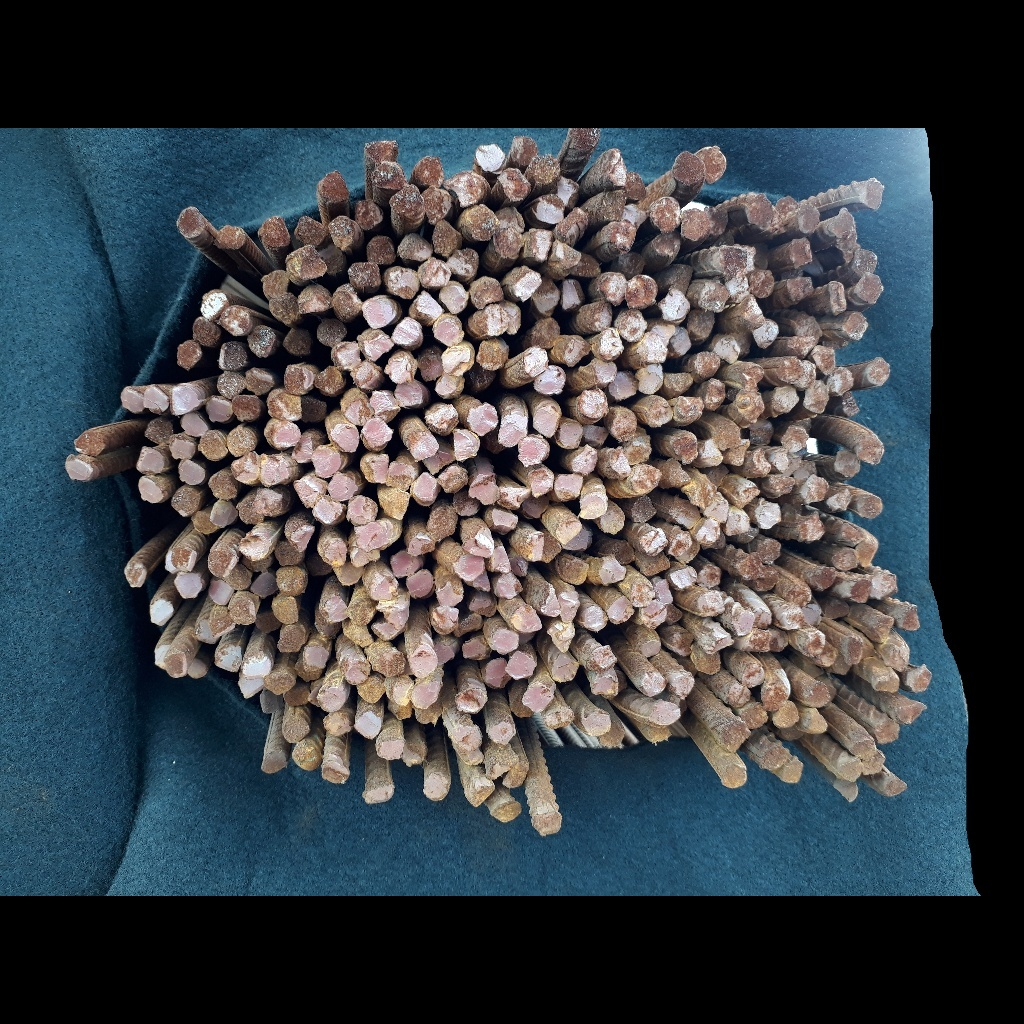dipstick: (443, 172, 489, 207), (283, 246, 328, 280), (541, 508, 582, 545), (729, 389, 766, 427), (553, 212, 590, 250), (460, 207, 502, 240), (406, 289, 445, 324), (722, 473, 761, 507), (613, 307, 648, 342), (671, 151, 705, 187), (465, 402, 501, 436), (328, 216, 361, 253), (625, 273, 657, 311), (650, 198, 684, 233), (496, 167, 530, 202), (328, 422, 363, 456), (363, 294, 397, 329), (657, 288, 690, 324), (388, 185, 424, 218), (260, 214, 293, 250), (467, 276, 504, 308), (429, 219, 461, 256), (310, 445, 344, 479), (532, 192, 565, 227), (485, 745, 520, 778), (879, 634, 911, 670), (361, 296, 398, 327), (357, 329, 395, 359), (694, 149, 727, 183), (595, 272, 628, 306), (619, 429, 651, 464), (474, 305, 509, 337), (421, 185, 453, 220), (316, 170, 351, 202), (260, 453, 292, 488), (330, 553, 365, 585), (438, 279, 469, 315), (385, 267, 421, 298), (296, 285, 333, 315), (716, 720, 749, 753), (597, 447, 630, 480), (293, 214, 326, 247), (696, 280, 730, 312), (668, 529, 700, 563), (658, 458, 690, 492), (659, 262, 693, 294), (384, 350, 418, 382), (390, 316, 424, 348), (333, 285, 365, 319), (270, 388, 302, 422), (371, 160, 407, 190), (170, 569, 206, 599), (395, 233, 433, 261), (629, 462, 662, 494), (522, 229, 554, 262), (491, 228, 524, 260), (413, 157, 445, 190), (245, 325, 277, 358), (668, 430, 699, 464), (608, 406, 638, 441), (510, 267, 540, 302), (218, 306, 253, 336), (350, 361, 386, 390), (602, 149, 629, 187), (852, 272, 884, 304), (576, 391, 608, 423), (360, 453, 392, 485), (137, 382, 169, 414), (426, 508, 459, 539), (378, 488, 409, 521), (331, 341, 364, 372), (231, 451, 262, 484), (225, 426, 258, 457), (710, 419, 744, 449), (683, 475, 717, 505), (528, 154, 562, 184), (431, 314, 465, 344), (446, 248, 480, 278), (266, 296, 300, 326), (686, 308, 715, 343), (546, 241, 581, 270), (416, 259, 452, 287), (494, 482, 531, 509), (733, 360, 764, 392), (641, 396, 672, 428), (552, 418, 584, 449), (559, 336, 591, 367), (270, 419, 302, 450), (360, 418, 393, 448), (315, 535, 348, 565), (169, 384, 202, 414), (680, 209, 709, 243), (389, 551, 424, 579), (424, 403, 459, 431), (346, 261, 381, 289), (352, 198, 383, 229), (346, 495, 377, 526), (227, 593, 258, 624), (760, 681, 790, 713), (564, 447, 596, 477), (531, 407, 561, 439), (529, 318, 561, 348), (531, 282, 561, 314), (261, 269, 291, 301), (473, 143, 506, 172), (517, 438, 550, 467), (547, 621, 576, 654), (214, 224, 247, 253), (215, 343, 248, 372), (828, 206, 856, 240), (585, 646, 619, 674), (504, 651, 538, 679), (700, 378, 727, 413), (530, 368, 565, 395), (671, 395, 702, 425), (607, 370, 638, 400), (176, 207, 206, 238), (410, 474, 439, 506), (274, 624, 306, 653), (803, 381, 831, 414), (580, 302, 613, 330), (496, 419, 529, 447), (467, 477, 501, 504), (807, 345, 837, 375), (667, 563, 697, 593), (639, 332, 669, 362), (282, 326, 312, 356), (236, 494, 266, 524), (773, 355, 804, 384), (745, 194, 774, 225), (607, 219, 636, 250), (384, 676, 415, 705), (408, 431, 439, 460), (285, 364, 314, 395), (423, 446, 455, 474), (441, 344, 473, 372), (477, 340, 505, 372), (326, 471, 358, 499), (316, 318, 348, 346), (852, 532, 879, 565), (453, 430, 480, 463), (293, 475, 320, 508), (229, 395, 262, 422), (485, 508, 519, 534), (454, 685, 488, 711), (312, 497, 346, 523), (825, 367, 854, 397), (799, 474, 828, 504), (725, 245, 755, 274), (692, 349, 722, 378), (634, 366, 664, 395), (365, 236, 395, 265), (316, 366, 345, 396), (291, 741, 321, 770), (245, 367, 275, 396), (205, 548, 235, 577), (167, 546, 197, 575), (208, 580, 238, 609), (834, 448, 862, 479), (866, 613, 894, 644), (797, 707, 828, 735), (198, 431, 229, 459), (800, 511, 827, 543), (463, 531, 495, 558), (353, 711, 385, 738), (314, 607, 340, 640), (701, 494, 730, 523), (870, 569, 898, 599), (636, 552, 671, 576), (439, 465, 469, 493), (320, 594, 348, 624), (254, 487, 284, 515), (895, 601, 922, 632), (571, 253, 602, 280), (454, 553, 485, 580), (896, 699, 928, 725), (620, 170, 646, 202), (494, 207, 526, 233), (762, 474, 795, 499), (537, 585, 562, 618), (510, 607, 543, 632), (355, 678, 388, 703), (364, 138, 398, 162), (856, 437, 885, 465), (753, 501, 781, 530), (712, 336, 741, 364), (694, 647, 722, 676), (671, 501, 700, 529), (652, 233, 680, 262), (598, 556, 627, 584), (607, 596, 635, 625), (590, 670, 619, 698), (408, 649, 437, 677), (281, 715, 310, 743), (723, 507, 750, 537), (692, 517, 722, 544), (599, 505, 626, 535), (527, 468, 554, 498), (522, 348, 549, 378), (341, 657, 371, 684), (192, 315, 219, 345), (207, 471, 237, 498), (795, 204, 821, 235), (865, 356, 891, 387), (870, 669, 901, 695), (741, 296, 767, 327), (490, 628, 521, 654), (465, 781, 496, 807), (408, 684, 439, 710), (385, 462, 416, 488), (272, 595, 298, 626), (602, 189, 627, 221), (343, 400, 375, 425), (130, 478, 162, 503), (262, 671, 295, 695), (752, 320, 780, 348), (771, 701, 799, 729), (639, 527, 667, 555), (517, 533, 545, 561), (407, 570, 435, 598), (209, 498, 237, 526), (190, 507, 218, 535), (836, 521, 865, 548), (905, 664, 932, 693), (836, 754, 863, 783), (781, 425, 810, 452), (742, 449, 771, 476), (800, 628, 827, 657), (666, 629, 695, 656), (276, 568, 305, 595), (852, 248, 878, 278), (801, 681, 831, 707), (588, 359, 618, 385), (511, 137, 537, 167), (523, 684, 553, 710), (370, 391, 400, 417), (172, 488, 198, 518), (249, 572, 279, 598), (788, 237, 813, 268), (451, 725, 482, 750), (175, 341, 206, 366), (555, 176, 579, 208), (749, 270, 776, 298), (776, 605, 804, 632), (740, 702, 768, 729), (628, 580, 655, 608), (554, 473, 581, 501), (485, 659, 512, 687), (436, 581, 464, 608), (432, 609, 459, 637), (423, 773, 450, 801), (842, 310, 868, 339), (725, 274, 751, 303), (703, 627, 732, 653), (598, 329, 624, 358), (503, 760, 529, 789), (205, 396, 234, 422), (793, 315, 823, 340), (726, 437, 751, 467), (669, 671, 694, 701), (356, 524, 386, 549), (239, 534, 269, 559), (863, 178, 885, 212), (705, 205, 729, 236), (560, 280, 584, 311), (493, 574, 524, 598), (350, 541, 381, 565), (147, 420, 178, 444), (772, 388, 799, 415), (597, 721, 624, 748), (301, 644, 329, 670), (275, 541, 303, 567), (858, 492, 883, 521), (748, 419, 773, 448), (506, 550, 531, 579), (368, 575, 397, 600), (418, 350, 443, 379), (167, 434, 196, 459), (164, 647, 189, 676), (664, 370, 694, 394), (381, 598, 411, 622), (501, 299, 521, 335), (292, 659, 322, 683), (840, 634, 863, 665), (557, 592, 580, 623), (695, 564, 722, 590), (639, 602, 665, 629), (178, 460, 205, 486), (617, 251, 645, 276), (610, 539, 635, 567), (431, 638, 456, 666), (396, 379, 421, 407), (668, 327, 692, 356), (65, 456, 94, 480), (321, 760, 351, 783), (317, 687, 347, 710), (179, 414, 209, 437), (560, 528, 591, 550), (486, 722, 517, 744), (860, 750, 886, 776), (630, 497, 656, 523), (744, 629, 771, 654), (486, 547, 511, 574), (534, 812, 561, 837), (786, 277, 814, 301), (720, 764, 748, 788), (400, 742, 428, 766), (379, 652, 407, 676), (323, 711, 351, 735), (347, 599, 375, 623), (452, 493, 481, 516), (344, 623, 373, 646), (366, 778, 396, 800), (781, 754, 802, 785), (811, 565, 836, 591), (756, 539, 782, 564), (814, 643, 840, 668), (758, 745, 784, 770), (699, 592, 724, 618), (580, 494, 606, 519), (224, 564, 249, 590), (210, 606, 234, 633), (370, 620, 404, 639), (724, 685, 752, 708), (652, 702, 680, 725), (545, 707, 574, 729), (829, 280, 847, 315), (460, 639, 490, 660), (827, 487, 852, 512), (874, 719, 899, 744), (583, 606, 608, 631), (470, 456, 495, 481), (302, 397, 327, 422), (836, 238, 862, 262), (832, 547, 858, 571), (735, 554, 759, 580), (584, 712, 610, 736), (434, 375, 461, 398), (848, 738, 876, 760), (376, 737, 404, 759), (76, 431, 104, 453), (491, 803, 523, 822), (583, 422, 608, 446), (406, 534, 436, 554), (138, 447, 162, 472), (194, 617, 218, 642), (849, 577, 872, 603), (731, 611, 754, 637), (795, 361, 817, 388), (284, 684, 311, 706), (152, 599, 174, 626), (768, 446, 789, 474), (821, 598, 850, 618), (123, 560, 147, 584), (700, 440, 722, 466), (644, 722, 671, 743), (386, 699, 414, 719), (286, 518, 309, 542), (739, 666, 764, 688), (261, 752, 286, 774), (834, 780, 860, 801), (567, 129, 599, 146), (840, 391, 860, 418), (787, 584, 811, 606), (749, 607, 773, 629), (640, 674, 665, 695), (260, 690, 285, 711), (457, 615, 486, 633), (639, 635, 661, 658), (754, 571, 778, 592), (768, 627, 788, 652), (413, 706, 440, 724), (663, 602, 684, 625), (469, 598, 497, 615), (794, 336, 816, 357), (655, 580, 673, 605), (781, 453, 802, 474), (467, 575, 491, 593), (887, 777, 907, 798), (794, 461, 817, 478), (459, 749, 484, 764)
